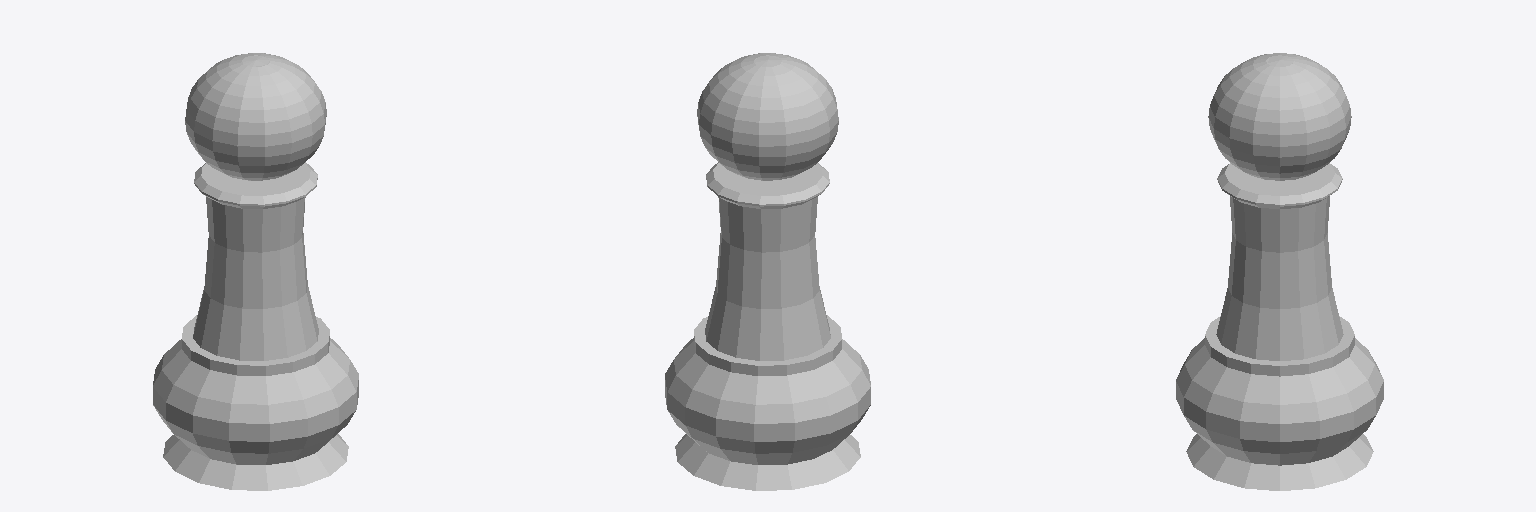
3 renders of one model, left to right at view 1: azimuth 30°, elevation 25°; view 2: azimuth 150°, elevation 25°; view 3: azimuth 270°, elevation 25°, orthographic.
Parts seen in each view (by area): view 1: Pawn.002_Sphere.003; view 2: Pawn.002_Sphere.003; view 3: Pawn.002_Sphere.003.
Boxes of the visible parts, x1,y1,x2,y2 form: Pawn.002_Sphere.003: [153, 53, 358, 490]; Pawn.002_Sphere.003: [665, 53, 870, 490]; Pawn.002_Sphere.003: [1176, 53, 1383, 490].
Bounding box in the file's own units: 0.9985 × 2.07 × 0.9985.